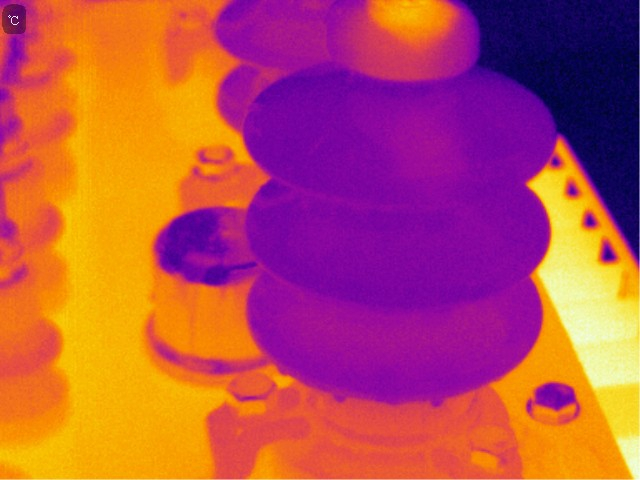Oil: (361, 1, 467, 54), (332, 388, 350, 404), (429, 392, 444, 410)
